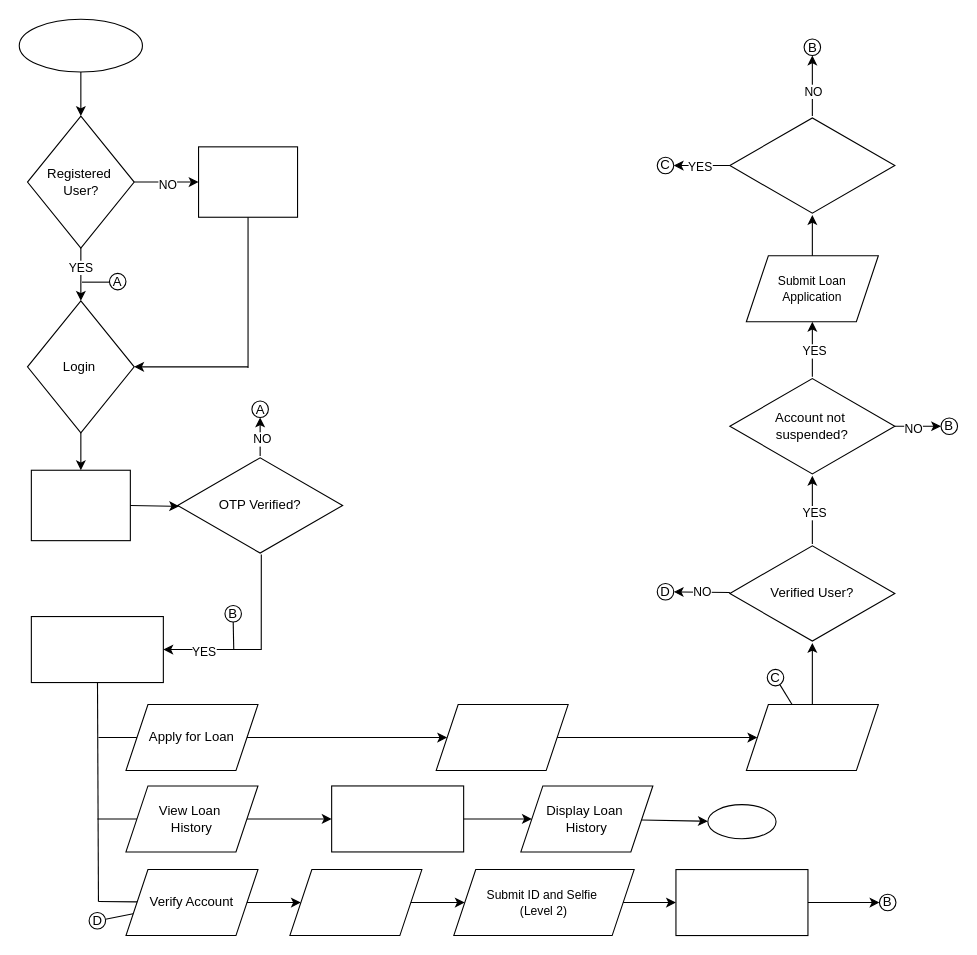
Some shapes in this 977 by 955 pixel diagram are drawn without their labels. Here are the shapes that lost their labels. From the top down, the centre of each, then its label:
At pixel 80 45: "START".
At pixel 247 181: "Register as New User".
At pixel 812 165: "Make Another Loan?".
At pixel 80 505: "Send OTP verification via SMS".
At pixel 96 649: "Home Page".
At pixel 501 737: "Open Application Modal".
At pixel 811 737: "Select Loan Plan".
At pixel 397 818: "Fetch from database accordingly".
At pixel 741 821: "END".
At pixel 355 902: "Basic Info (Level 1)".
At pixel 741 902: "Credentials Verification".
